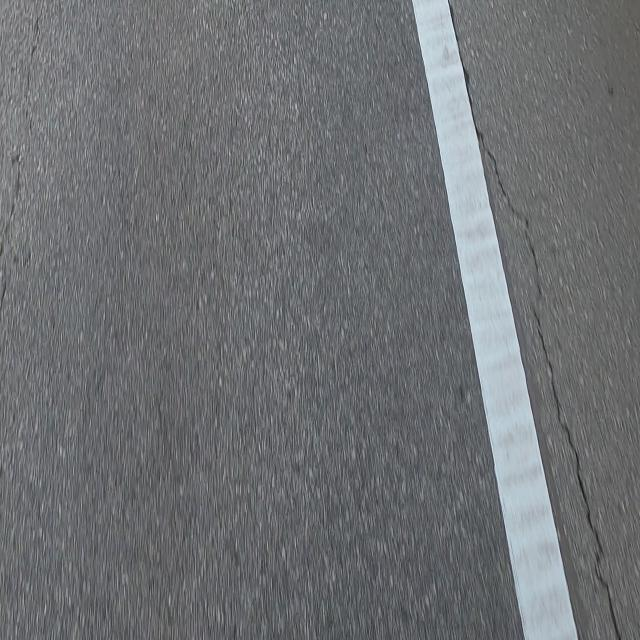Retak-Memanjang: (442, 0, 622, 640), (0, 3, 45, 261)
